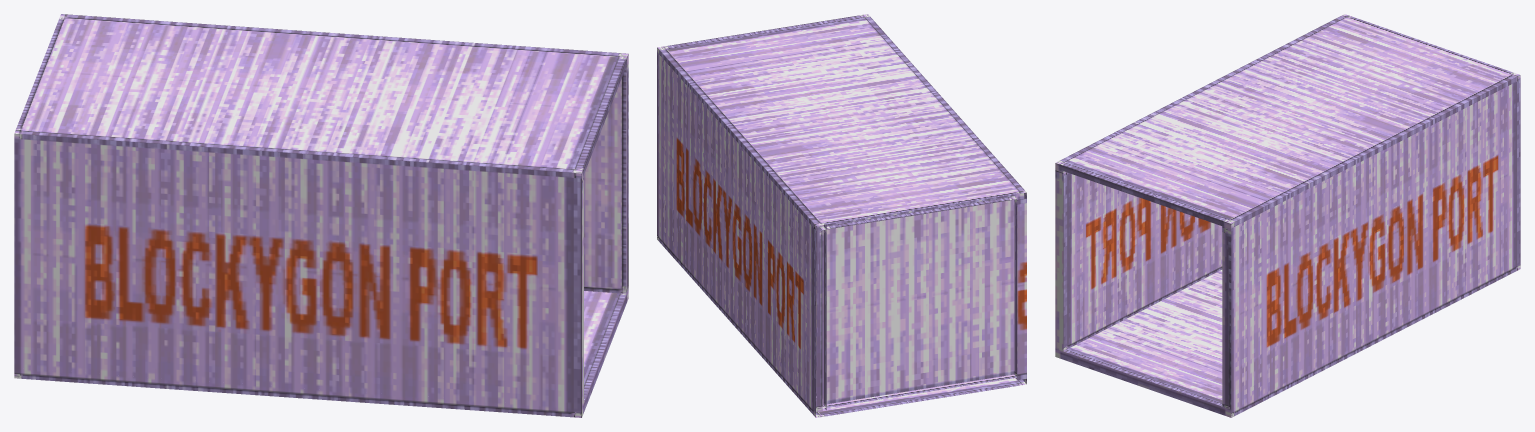
Rendered from BLOCKYGON_WHITE CONTAINER(HALF OPEN).fbx.
3 renders of one model, left to right at view 1: azimuth 30°, elevation 25°; view 2: azimuth 150°, elevation 25°; view 3: azimuth 270°, elevation 25°, orthographic. The views are drawn at different scales.
Visible parts, largest first — view 1: BLOCKYGON_WHITE_CONTAINER_HALF_OPEN_; view 2: BLOCKYGON_WHITE_CONTAINER_HALF_OPEN_; view 3: BLOCKYGON_WHITE_CONTAINER_HALF_OPEN_.
Boxes of the visible parts, x1,y1,x2,y2 form: BLOCKYGON_WHITE_CONTAINER_HALF_OPEN_: (14,14,628,417); BLOCKYGON_WHITE_CONTAINER_HALF_OPEN_: (657,14,1026,417); BLOCKYGON_WHITE_CONTAINER_HALF_OPEN_: (1055,14,1520,417).
Bounding box in the file's own units: 474 × 204 × 444.
